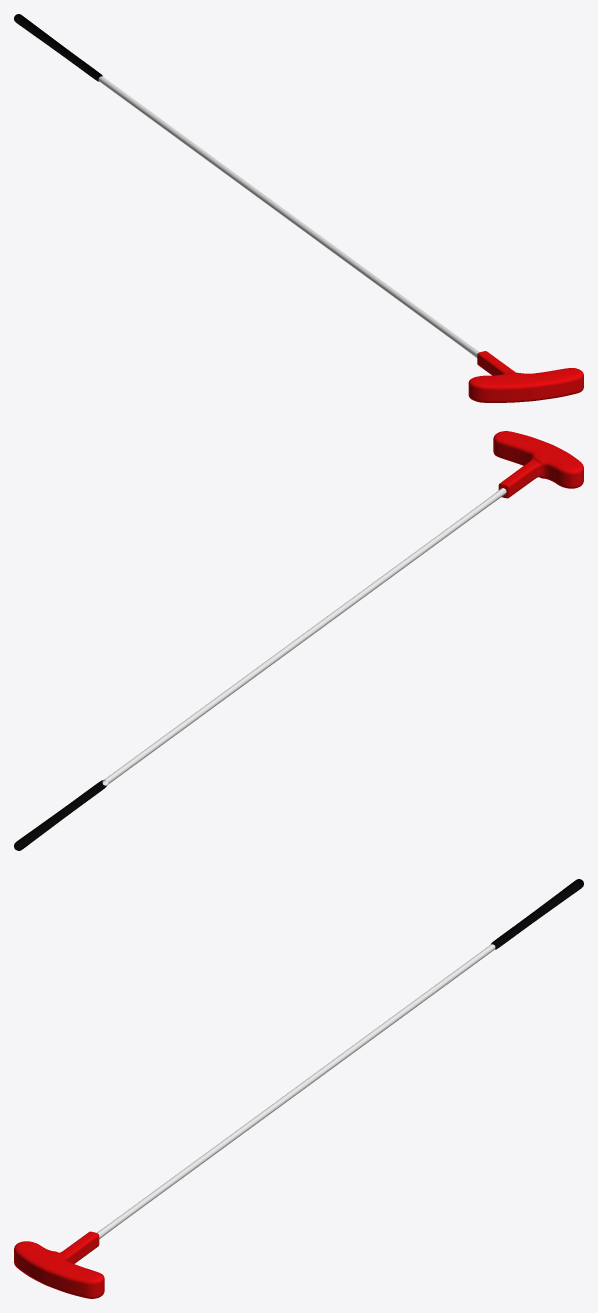
Rendered from Golfschlager1try.fbx.
3 renders of one model, top to bottom at view 1: azimuth 30°, elevation 25°; view 2: azimuth 150°, elevation 25°; view 3: azimuth 330°, elevation 25°, orthographic. The views are drawn at different scales.
Visible parts, largest first — view 1: Schläger; view 2: Schläger; view 3: Schläger.
Boxes of the visible parts, <box> form: Schläger: <box>14,14,583,402</box>; Schläger: <box>14,431,583,850</box>; Schläger: <box>14,879,583,1298</box>.
Bounding box in the file's own units: 10.88 × 2 × 100.
